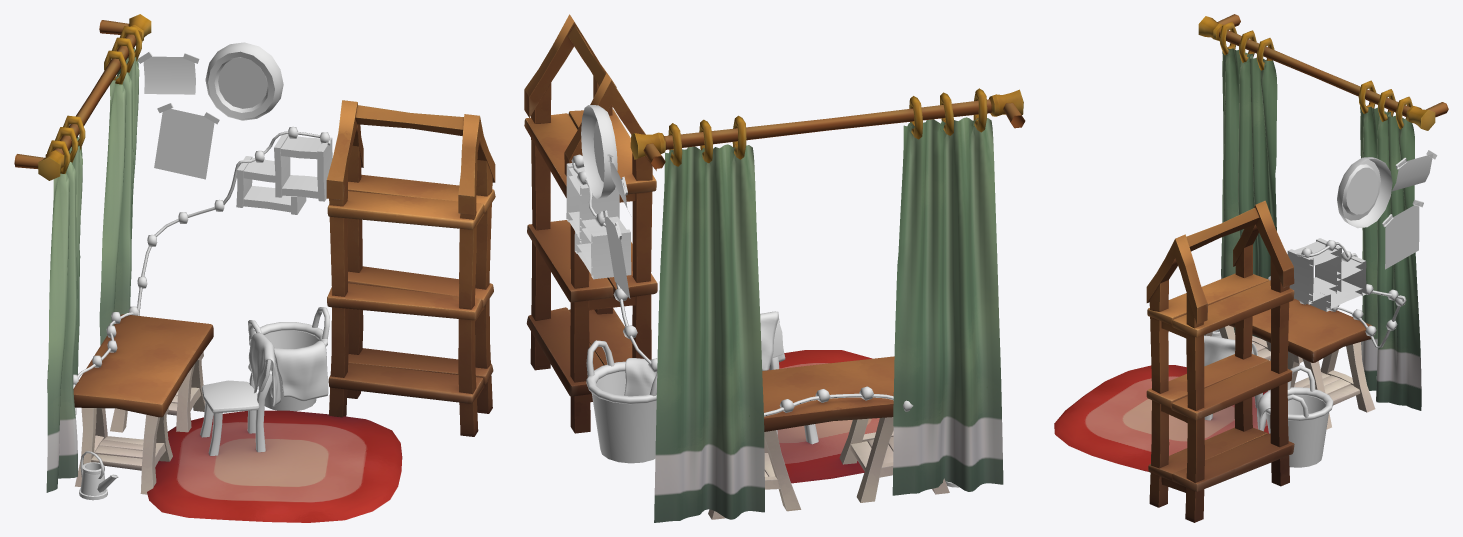
File: RoomFurnitureOnlyHalf.fbx
3 renders of one model, left to right at view 1: azimuth 30°, elevation 25°; view 2: azimuth 150°, elevation 25°; view 3: azimuth 270°, elevation 25°, orthographic. The views are drawn at different scales.
Parts seen in each view (by area): view 1: MDL_Closet, MDL_Carpet, MDL_Curtains, MDL_Table, MDL_Posters, MDL_Shelves, MDL_Clock, MDL_Chair, MDL_BasketBlanket, MDL_Basket, MDL_LightHanger, MDL_WaterBucket; view 2: MDL_Curtains, MDL_Closet, MDL_Table, MDL_Basket, MDL_Carpet, MDL_Shelves, MDL_Clock, MDL_LightHanger, MDL_Chair, MDL_Posters, MDL_BasketBlanket; view 3: MDL_Closet, MDL_Curtains, MDL_Carpet, MDL_Table, MDL_Shelves, MDL_Basket, MDL_Clock, MDL_Posters, MDL_LightHanger, MDL_Chair.
Part boxes in pixels (box(x1,y1,x2,y2)): MDL_Closet: box(326, 100, 495, 436); MDL_Carpet: box(147, 410, 402, 522); MDL_Curtains: box(14, 14, 151, 492); MDL_Table: box(73, 314, 213, 494); MDL_Posters: box(138, 51, 219, 179); MDL_Shelves: box(236, 134, 332, 214); MDL_Clock: box(205, 42, 283, 120); MDL_Chair: box(200, 332, 280, 455); MDL_BasketBlanket: box(274, 340, 328, 401); MDL_Basket: box(248, 307, 329, 411); MDL_LightHanger: box(73, 126, 330, 414); MDL_WaterBucket: box(79, 451, 118, 500); MDL_Curtains: box(630, 88, 1025, 522); MDL_Closet: box(524, 14, 657, 433); MDL_Table: box(708, 356, 949, 519); MDL_Basket: box(586, 340, 657, 463); MDL_Carpet: box(769, 350, 879, 483); MDL_Shelves: box(566, 163, 631, 279); MDL_Clock: box(581, 105, 617, 199); MDL_LightHanger: box(571, 154, 913, 416); MDL_Chair: box(760, 311, 818, 444); MDL_Posters: box(601, 154, 631, 298); MDL_BasketBlanket: box(624, 358, 656, 396); MDL_Closet: box(1146, 200, 1294, 522); MDL_Curtains: box(1198, 14, 1448, 410); MDL_Carpet: box(1054, 365, 1268, 471); MDL_Table: box(1204, 298, 1375, 429); MDL_Shelves: box(1287, 238, 1366, 311); MDL_Basket: box(1265, 365, 1333, 467); MDL_Clock: box(1337, 157, 1392, 228); MDL_Posters: box(1382, 150, 1437, 269); MDL_LightHanger: box(1268, 240, 1406, 348); MDL_Chair: box(1204, 335, 1262, 420).
Size of the model in its own units: 535 by 393 by 443.
